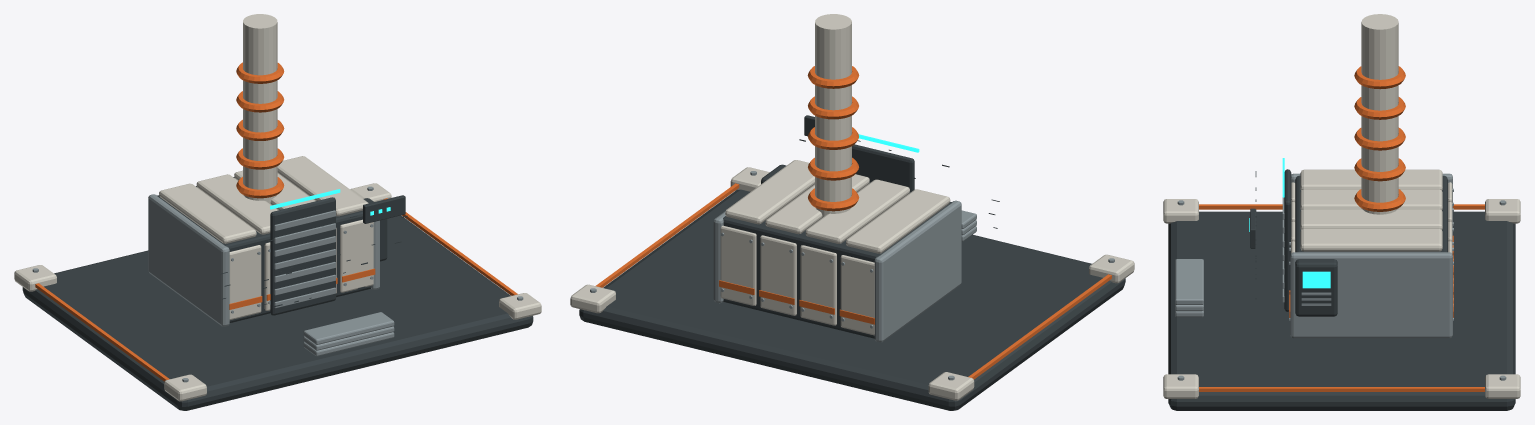
The model's file is SM_TradeBeacon_Body.fbx.
The picture shows the model from 3 angles, left to right: view 1: azimuth 30°, elevation 25°; view 2: azimuth 150°, elevation 25°; view 3: azimuth 270°, elevation 25°; orthographic projection. The views are drawn at different scales.
Parts seen in each view (by area): view 1: SM_TradeBeacon_Body; view 2: SM_TradeBeacon_Body; view 3: SM_TradeBeacon_Body.
Part boxes in pixels (x1,y1,x2,y2): SM_TradeBeacon_Body: (14, 14, 541, 410); SM_TradeBeacon_Body: (570, 14, 1134, 410); SM_TradeBeacon_Body: (1163, 14, 1520, 410).
Size of the model in its own units: 532 by 422 by 390.
